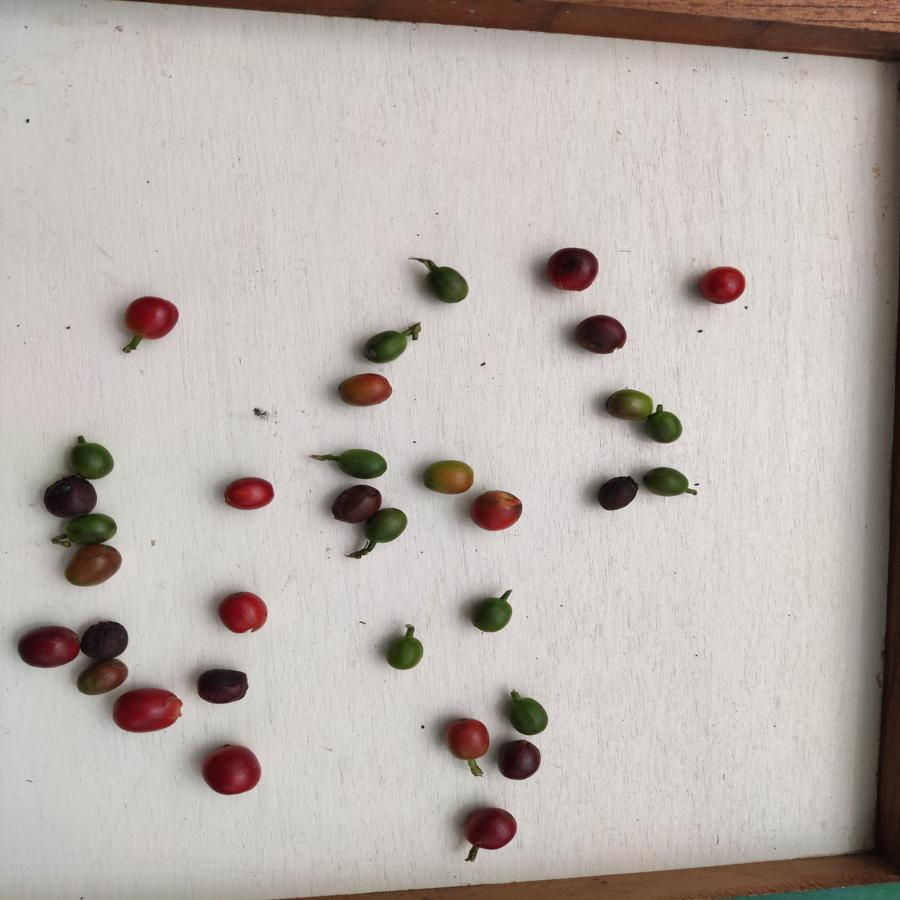Inmaduro: (422, 261, 472, 308), (360, 507, 409, 549), (333, 444, 388, 481), (642, 463, 693, 501), (67, 442, 118, 479), (505, 695, 552, 735), (468, 596, 513, 634), (384, 635, 425, 673), (66, 515, 121, 542), (364, 332, 405, 365), (647, 410, 683, 443)
Maduro: (112, 687, 181, 734), (202, 744, 263, 797), (467, 487, 525, 535), (120, 293, 179, 339), (215, 590, 273, 634), (696, 262, 744, 306), (222, 476, 276, 513), (445, 716, 489, 759)
Pinton: (63, 546, 128, 589), (74, 656, 126, 700), (336, 371, 392, 407), (603, 384, 651, 422), (420, 461, 472, 495)
Sobremaduro: (17, 624, 83, 670), (571, 311, 630, 360), (465, 803, 516, 859), (544, 248, 604, 292), (43, 476, 98, 515), (495, 739, 544, 780), (328, 485, 380, 522), (596, 474, 641, 515), (81, 619, 128, 658), (198, 669, 248, 703)
